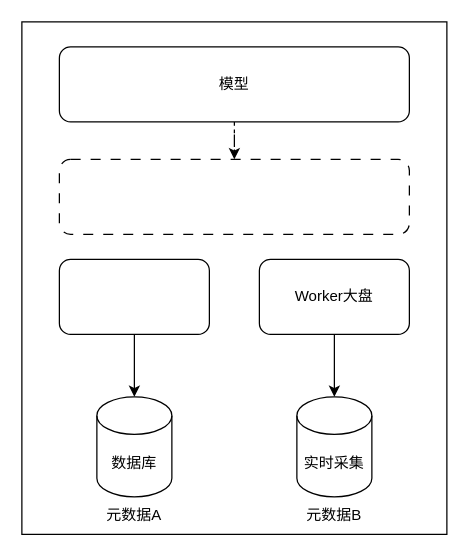
Image size: 469x556. Some labels were removed from this diagram. The centre of each missing label's shape, as x and y in pixels:
"Lambda" goes at (133,296).
"统一元数据" goes at (233,196).
